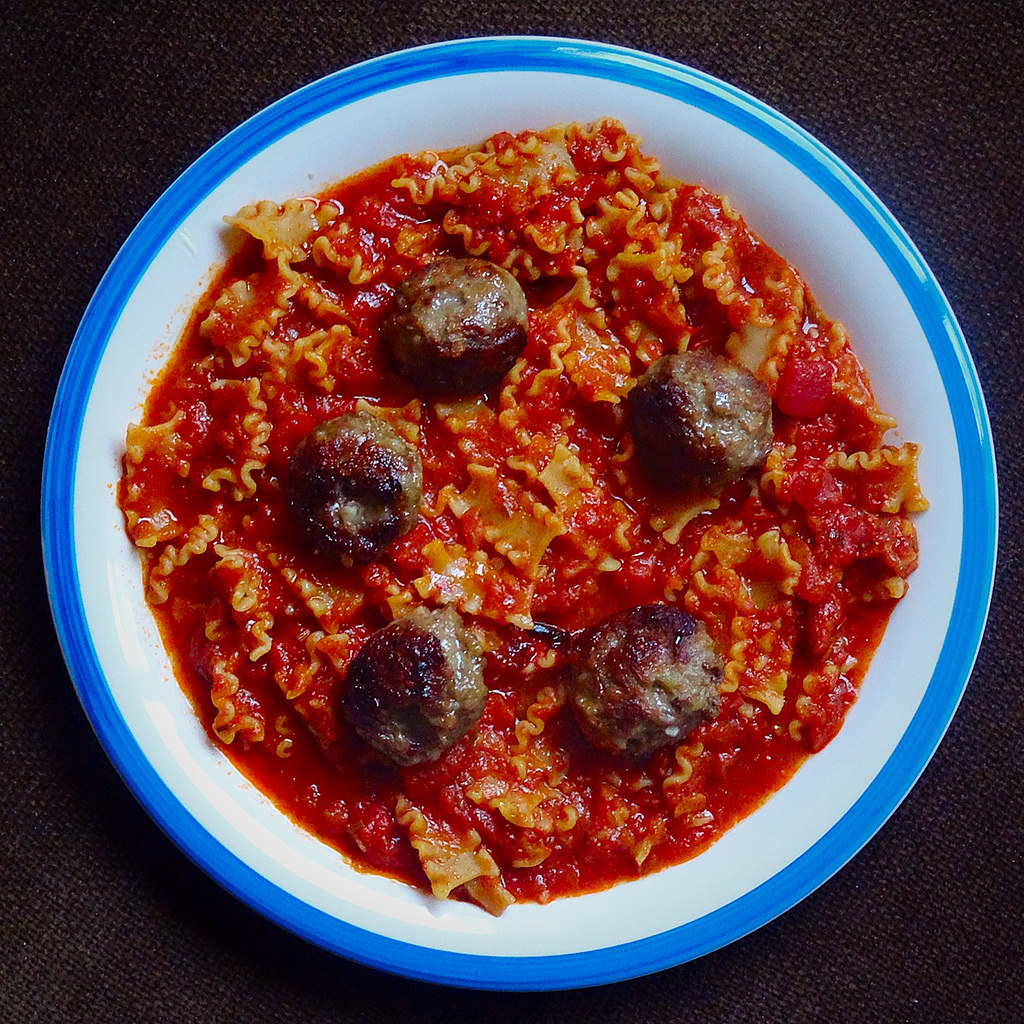meatballs: (289, 257, 777, 816), (328, 608, 486, 771)
